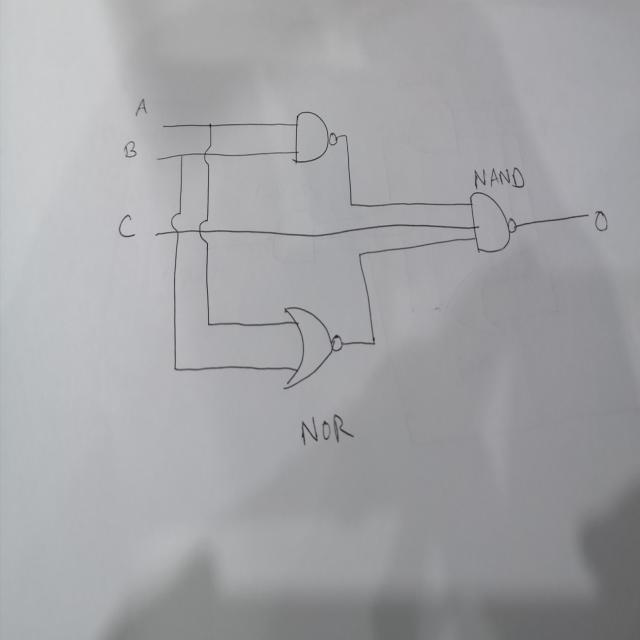crossover: (170, 208, 183, 239), (198, 215, 209, 249), (202, 142, 212, 167)
junction: (368, 330, 378, 352), (356, 247, 366, 264), (346, 197, 354, 210), (172, 360, 179, 374), (178, 150, 186, 160), (205, 317, 211, 330), (342, 130, 349, 140), (207, 120, 213, 130)
terminal: (582, 208, 592, 221), (160, 121, 166, 131), (155, 154, 161, 163), (153, 230, 159, 239)
text: (301, 410, 354, 450), (473, 164, 525, 192), (118, 213, 136, 238), (121, 138, 138, 159), (593, 208, 607, 232), (134, 95, 147, 117)
